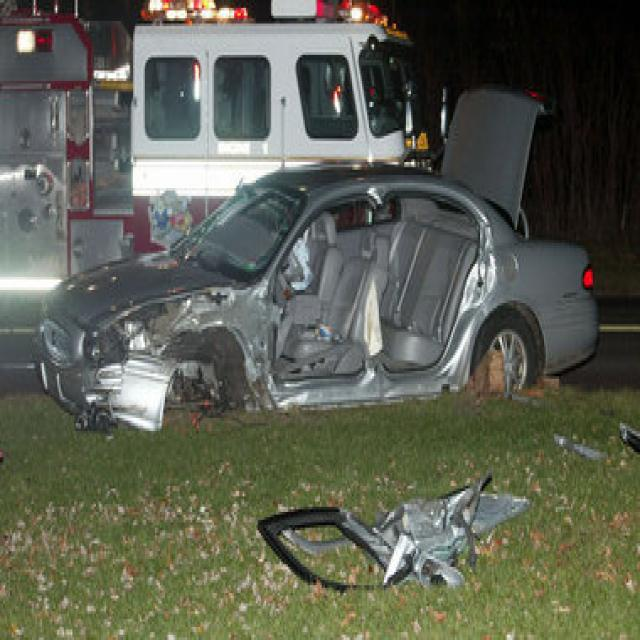crush: (74, 181, 499, 436)
